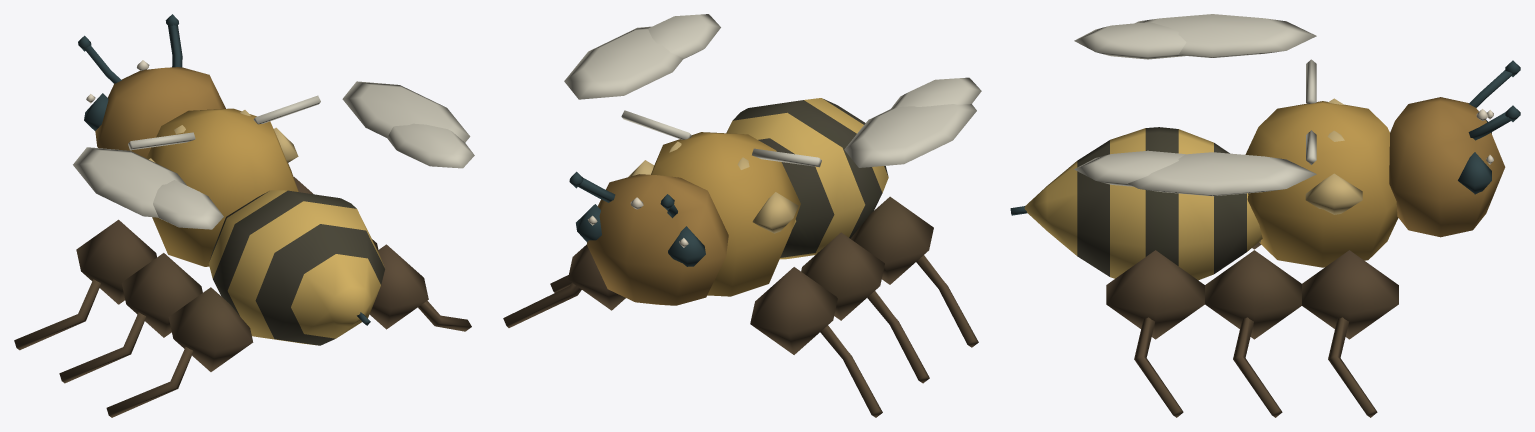
File: insect_honeybee.glb
3 views of the same model, side by side, from view 1: azimuth 30°, elevation 25°; view 2: azimuth 150°, elevation 25°; view 3: azimuth 270°, elevation 25° (orthographic). The views are drawn at different scales.
Parts seen in each view (by area): view 1: Model; view 2: Model; view 3: Model.
Boxes of the visible parts, <box> form: Model: <box>14,14,474,417</box>; Model: <box>503,14,981,417</box>; Model: <box>1010,14,1520,417</box>.
Size of the model in its own units: 0.1209 by 0.0741 by 0.14.
